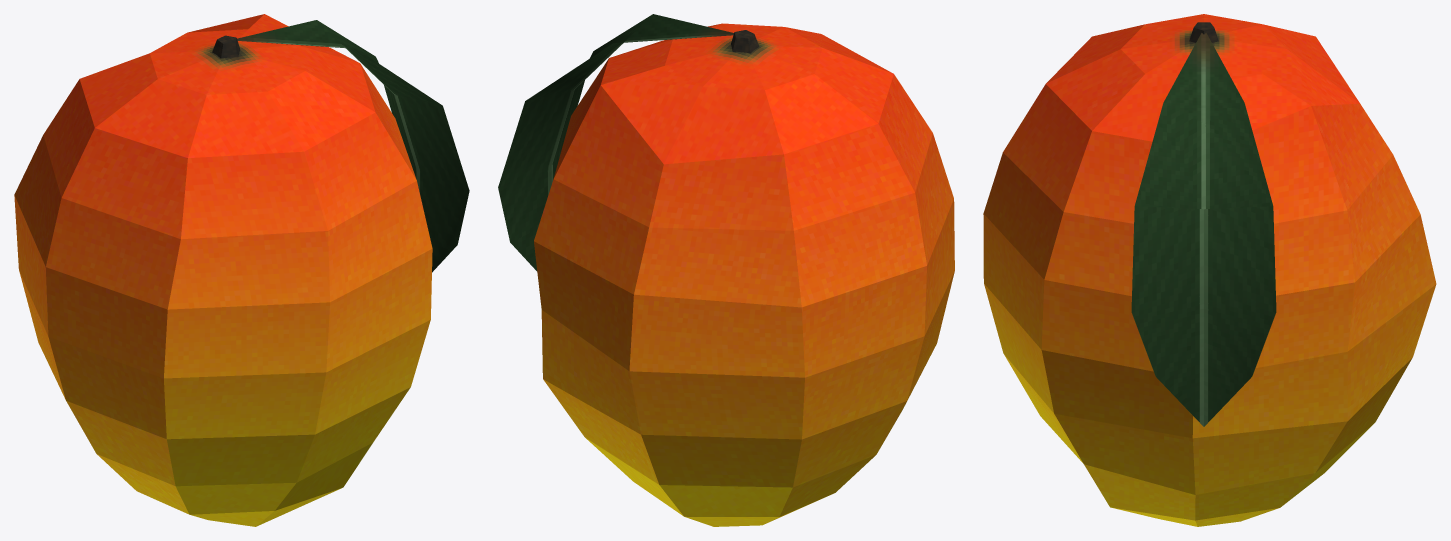
Rendered from mango.fbx.
3 renders of one model, left to right at view 1: azimuth 30°, elevation 25°; view 2: azimuth 150°, elevation 25°; view 3: azimuth 270°, elevation 25°, orthographic. The views are drawn at different scales.
Parts seen in each view (by area): view 1: pSphere1, pPlane1; view 2: pSphere1, pPlane1; view 3: pSphere1, pPlane1.
Part boxes in pixels (x1,y1,x2,y2): pSphere1: [14, 14, 432, 526]; pPlane1: [237, 20, 469, 272]; pSphere1: [534, 23, 954, 526]; pPlane1: [498, 14, 733, 271]; pSphere1: [983, 14, 1436, 526]; pPlane1: [1131, 33, 1276, 426].
Bounding box in the file's own units: 1.72 × 2.05 × 1.68.
